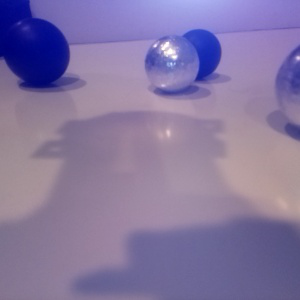alive_ball: (145, 35, 199, 92), (274, 46, 300, 129)
dead_ball: (3, 18, 70, 83), (176, 30, 222, 78)
